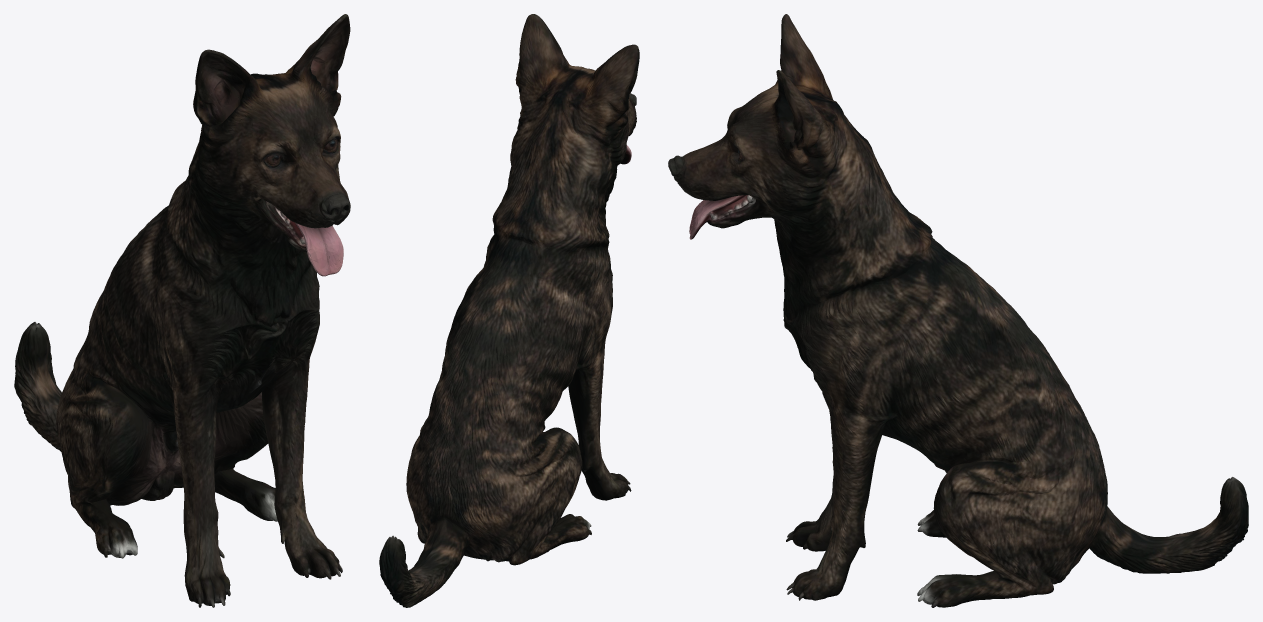
The model's file is companion.glb.
3 renders of one model, left to right at view 1: azimuth 30°, elevation 25°; view 2: azimuth 150°, elevation 25°; view 3: azimuth 270°, elevation 25°, orthographic. The views are drawn at different scales.
Visible parts, largest first — view 1: world; view 2: world; view 3: world.
Part boxes in pixels (left/top/right/bottom): world: left=14, top=14, right=350, bottom=607; world: left=379, top=14, right=639, bottom=607; world: left=668, top=14, right=1248, bottom=607.
Size of the model in its own units: 0.3453 by 0.9992 by 0.998.
Materials: 1 (1 with a texture image).
